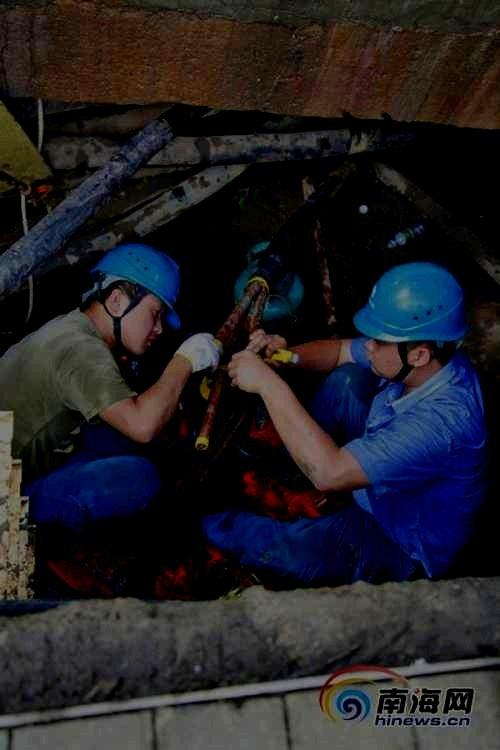helmet: (352, 261, 468, 382), (79, 243, 180, 354)
